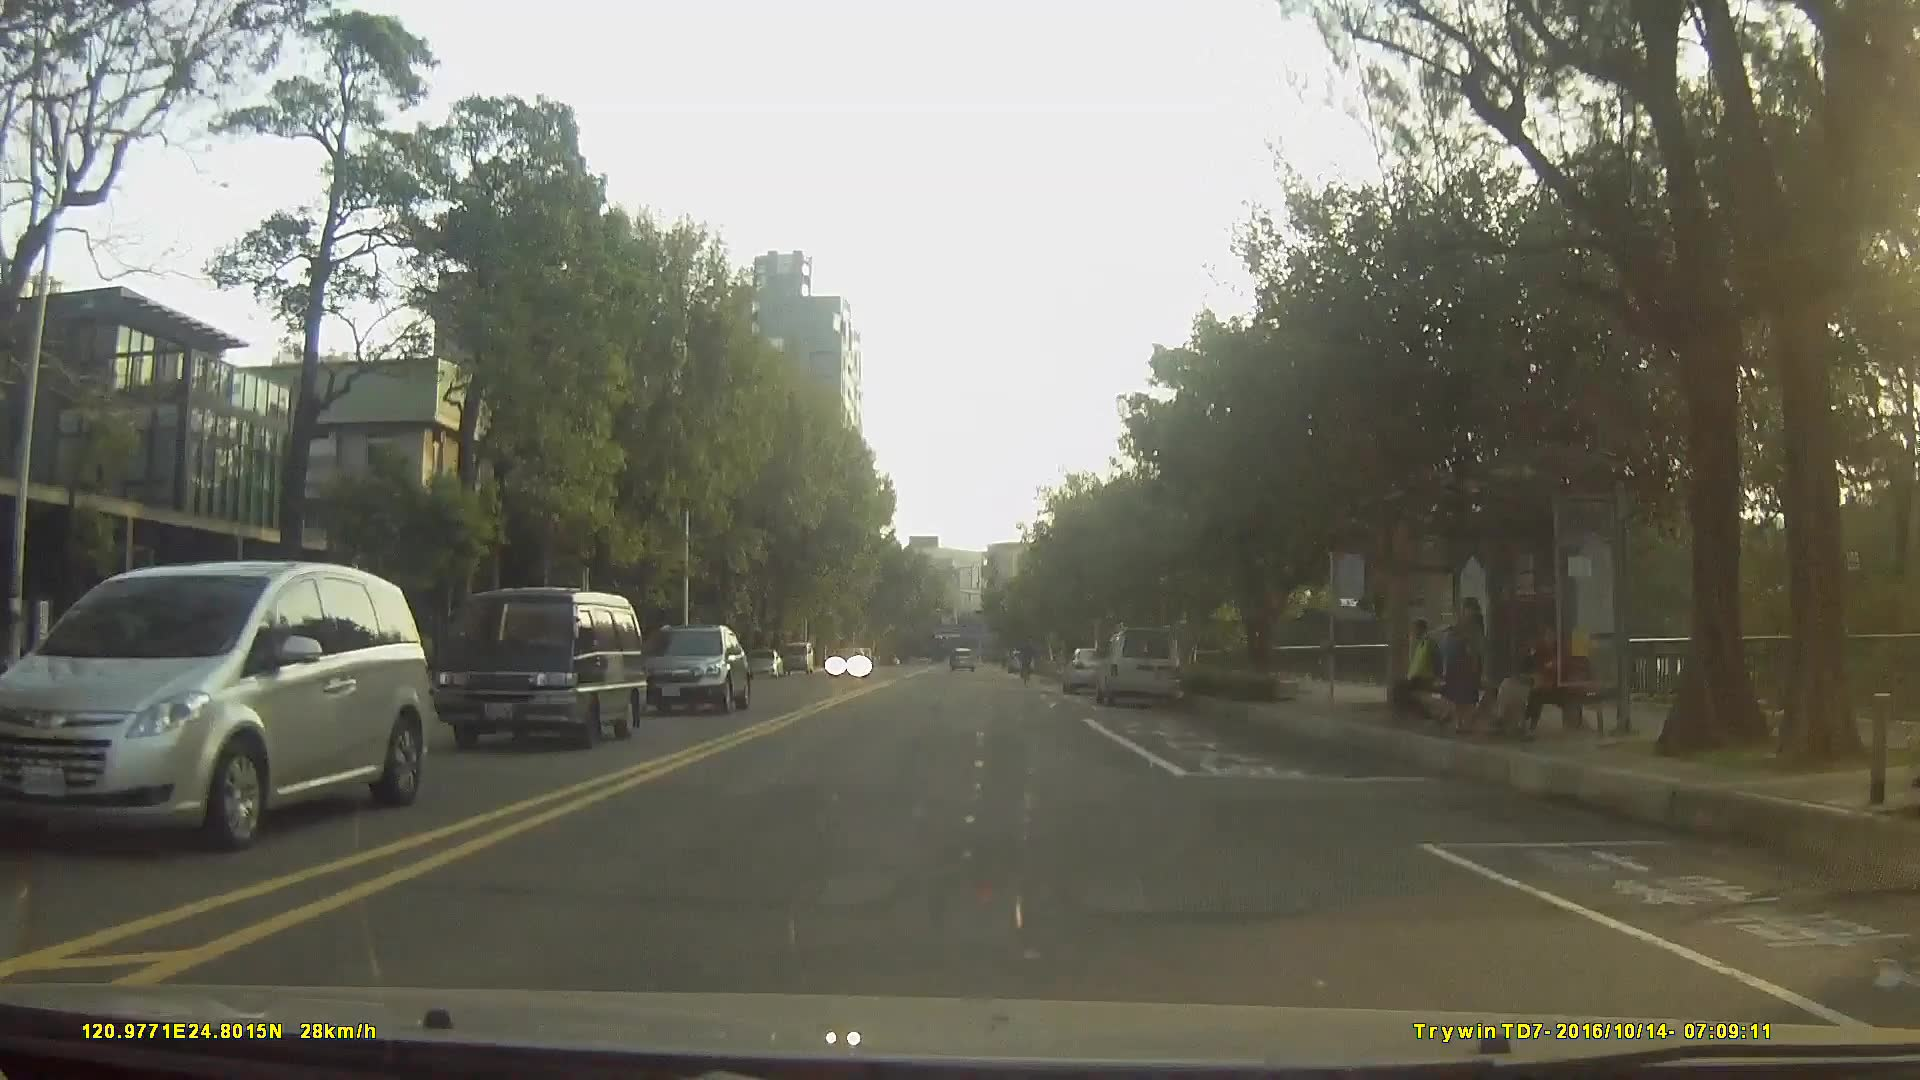pedestrian: (1423, 592, 1494, 731), (1487, 624, 1549, 737), (1392, 616, 1446, 721)
rider: (1016, 632, 1036, 690)
vehicle: (0, 558, 425, 852), (433, 583, 644, 749), (633, 623, 750, 713), (1094, 620, 1181, 703), (1062, 644, 1119, 695), (826, 643, 873, 677), (743, 641, 781, 674), (781, 640, 815, 674), (947, 647, 972, 670)
